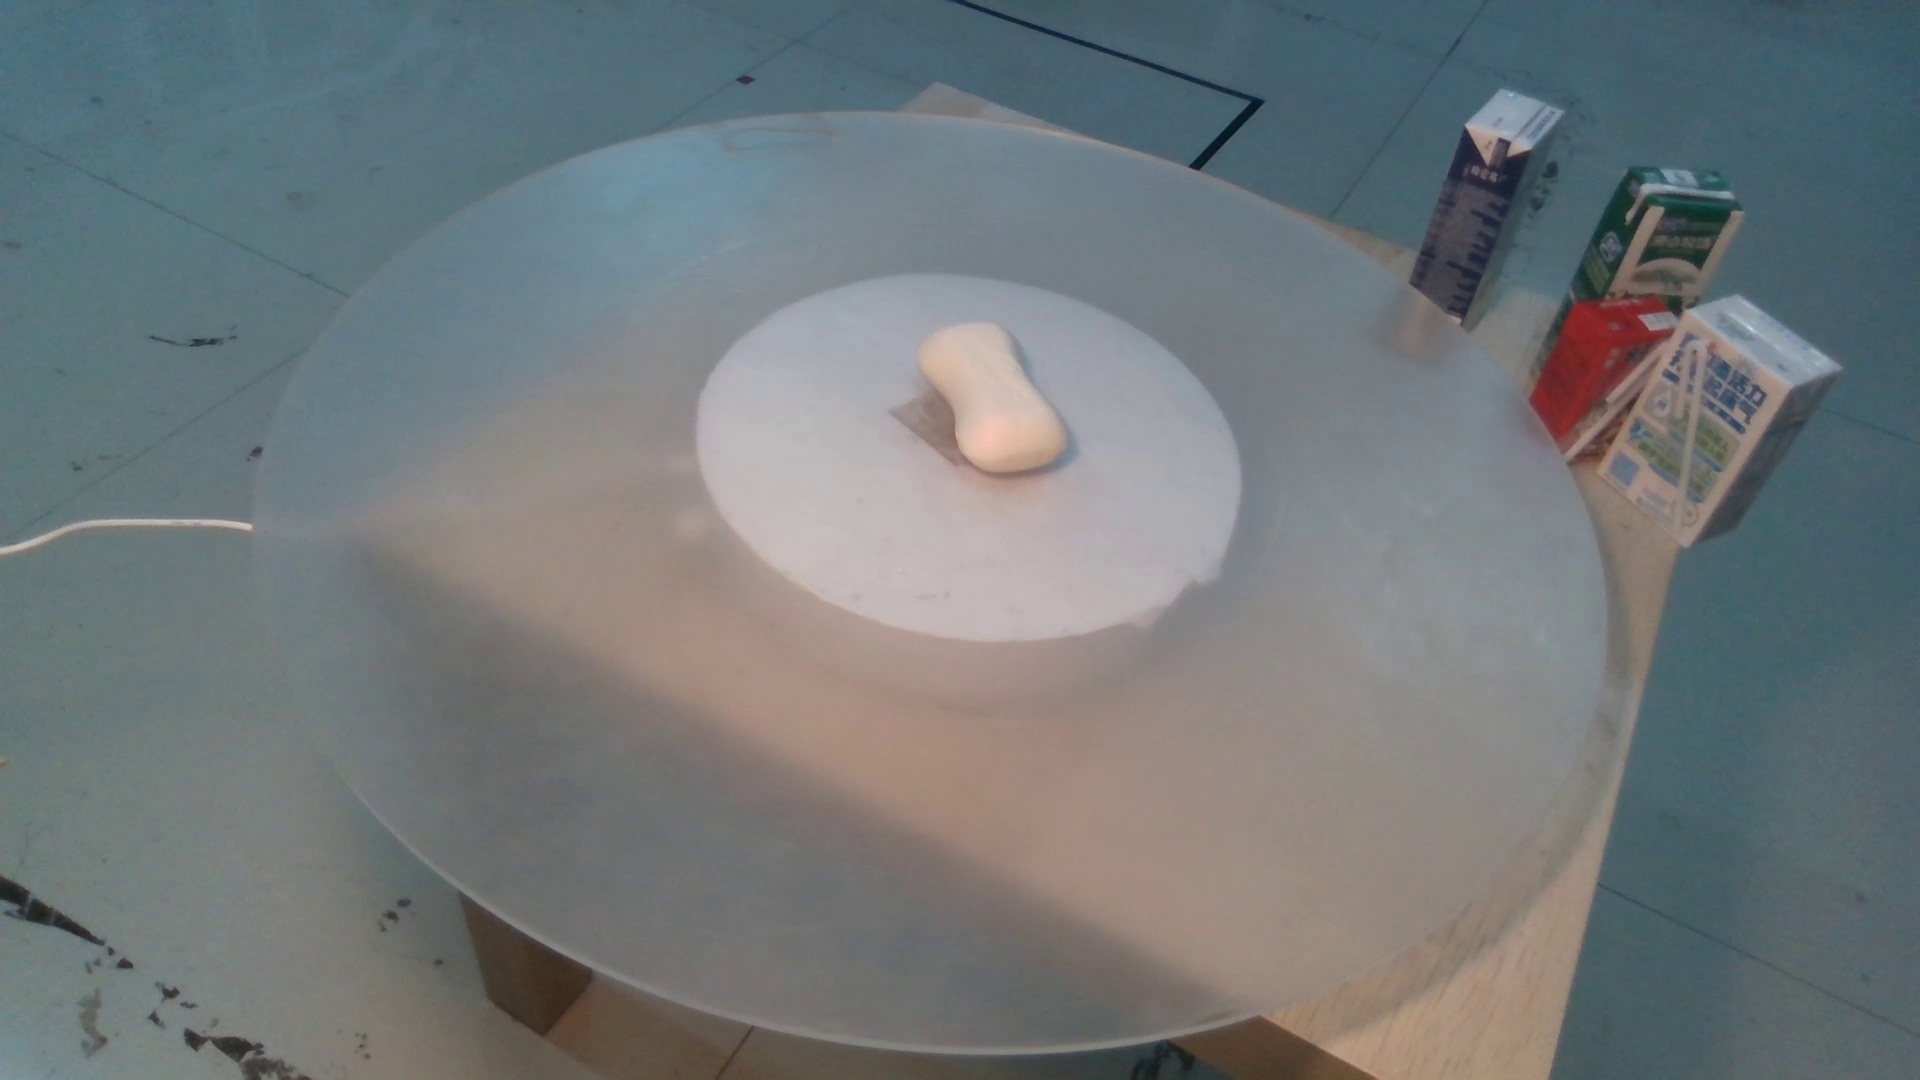CA003_1: (895, 313, 1079, 491)
